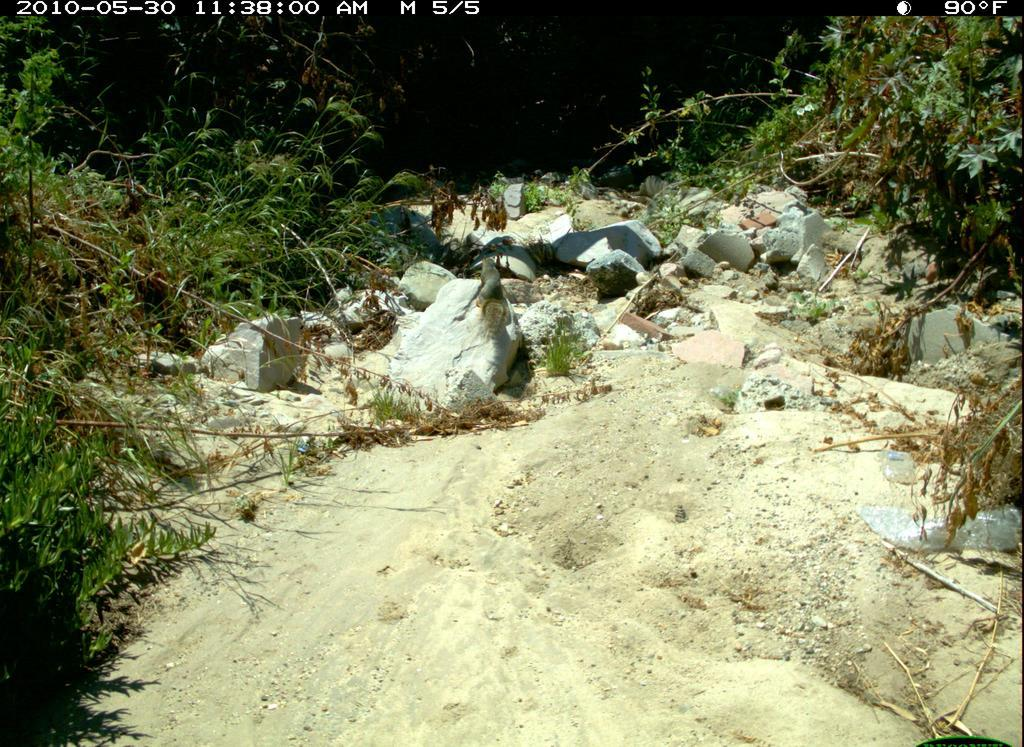squirrel: (467, 250, 522, 335)
